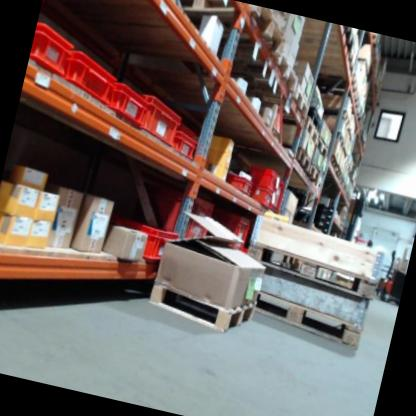pallet: (244, 235, 384, 301), (162, 0, 292, 67), (250, 290, 369, 347), (145, 280, 253, 334), (234, 121, 319, 176), (233, 44, 306, 98), (267, 80, 314, 120), (278, 109, 324, 145), (314, 20, 354, 50), (327, 41, 358, 78), (307, 129, 331, 156), (304, 165, 324, 184), (323, 156, 340, 171)
pallet_truck: (343, 191, 384, 247), (374, 244, 411, 303)
small_load_carrier: (147, 189, 217, 247), (126, 91, 187, 149), (27, 19, 82, 83), (61, 49, 120, 108), (111, 220, 174, 267), (103, 80, 153, 128), (210, 205, 253, 259), (245, 161, 282, 194), (267, 176, 291, 223), (221, 171, 254, 201), (171, 130, 199, 158), (246, 187, 274, 211)
